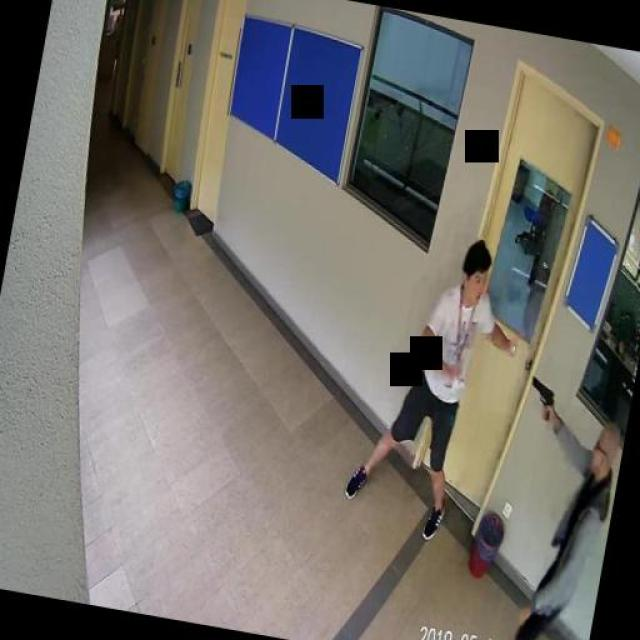gun: (524, 374, 558, 420)
